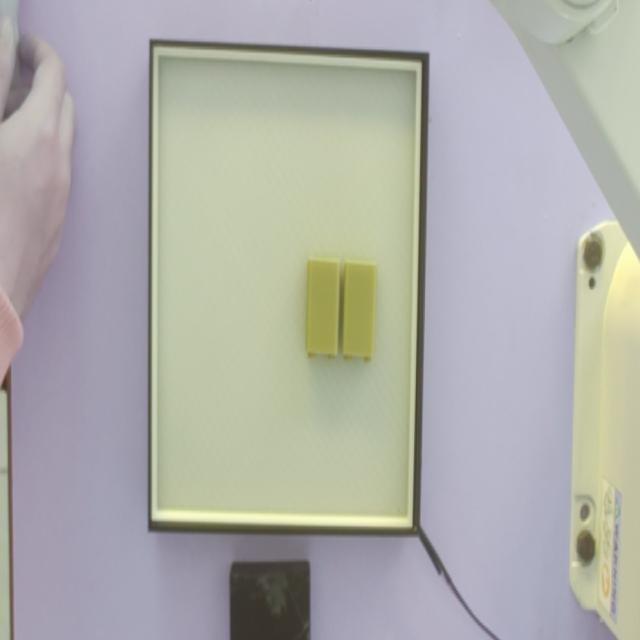bateria: (306, 258, 341, 361), (341, 262, 376, 365)
mesa: (149, 41, 430, 537)
